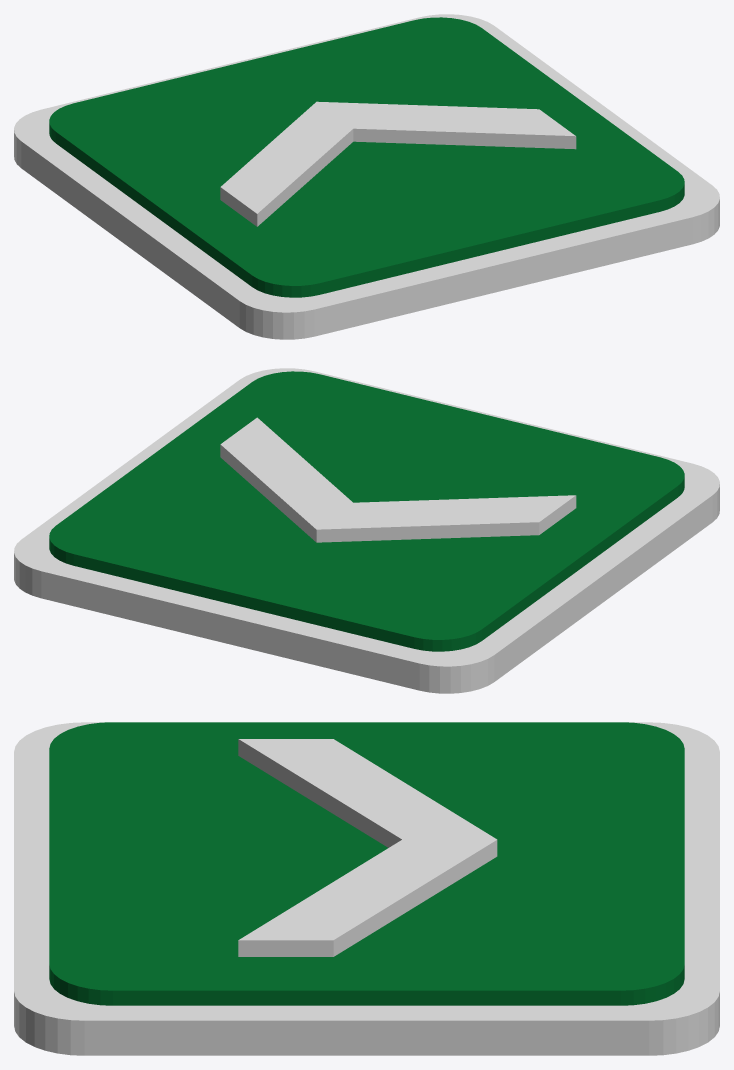
Rendered from PadType02.fbx.
3 views of the same model, one above another, from view 1: azimuth 30°, elevation 25°; view 2: azimuth 150°, elevation 25°; view 3: azimuth 270°, elevation 25° (orthographic). The views are drawn at different scales.
Visible parts, largest first — view 1: Cube.002, Cube.001, Plane; view 2: Cube.002, Cube.001, Plane; view 3: Cube.002, Cube.001, Plane.
Boxes of the visible parts, <box> form: Cube.002: <box>49,17,684,297</box>; Cube.001: <box>14,14,719,339</box>; Plane: <box>220,101,576,226</box>; Cube.002: <box>49,371,684,651</box>; Cube.001: <box>14,368,719,693</box>; Plane: <box>220,417,576,542</box>; Cube.002: <box>49,722,684,1005</box>; Cube.001: <box>14,722,719,1055</box>; Plane: <box>238,739,497,956</box>.
Size of the model in its own units: 200 by 20.95 by 200.
